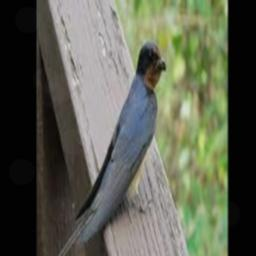Swallow: (51, 38, 165, 256)
